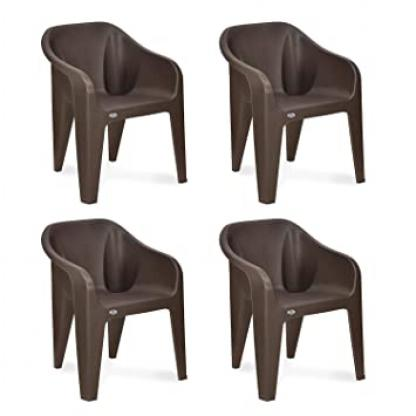chair: (25, 18, 206, 214)
